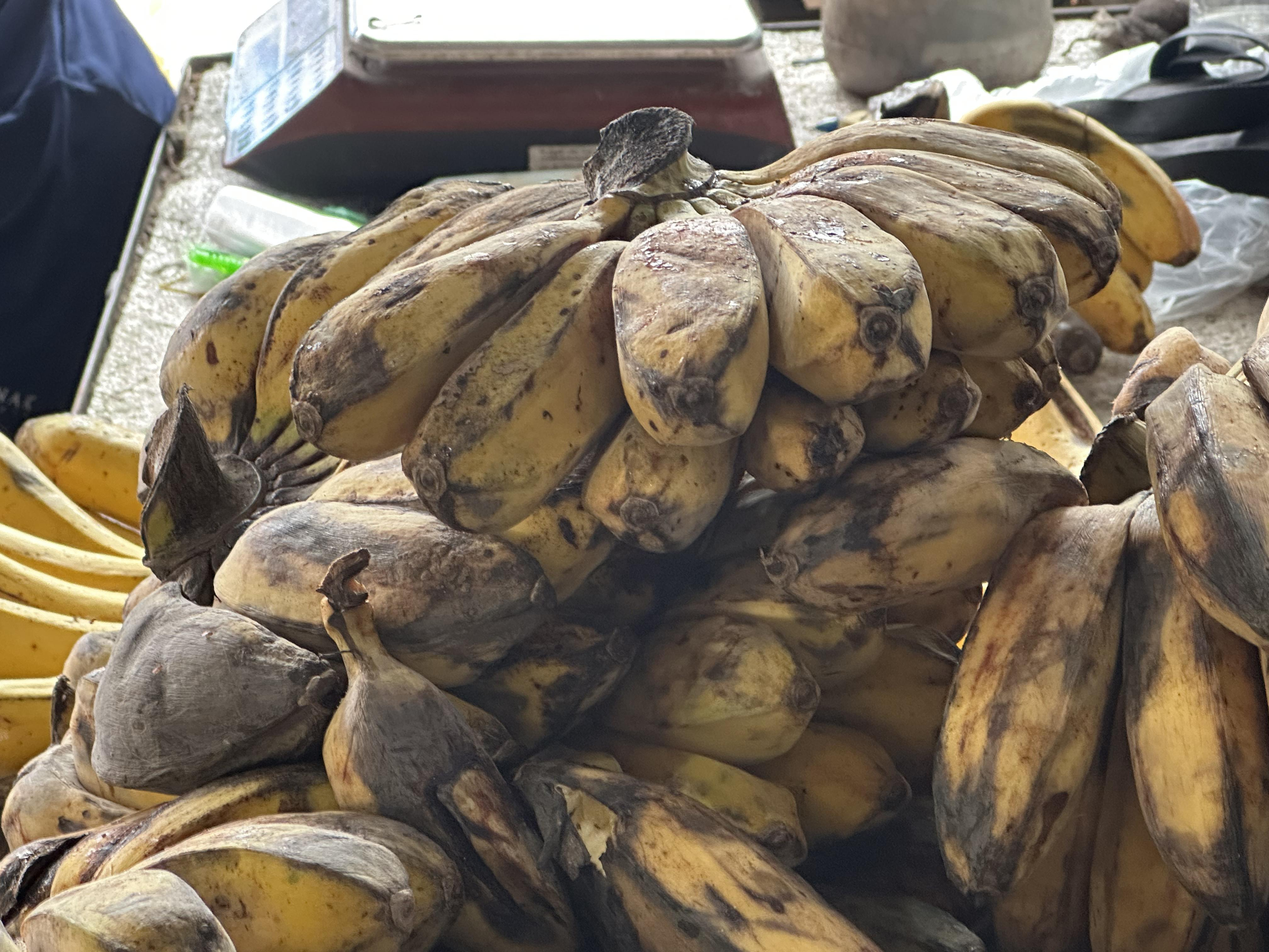ripe: (289, 118, 1126, 555), (763, 304, 1269, 949), (89, 456, 657, 793), (567, 550, 980, 866), (154, 181, 584, 455), (0, 763, 463, 952)
